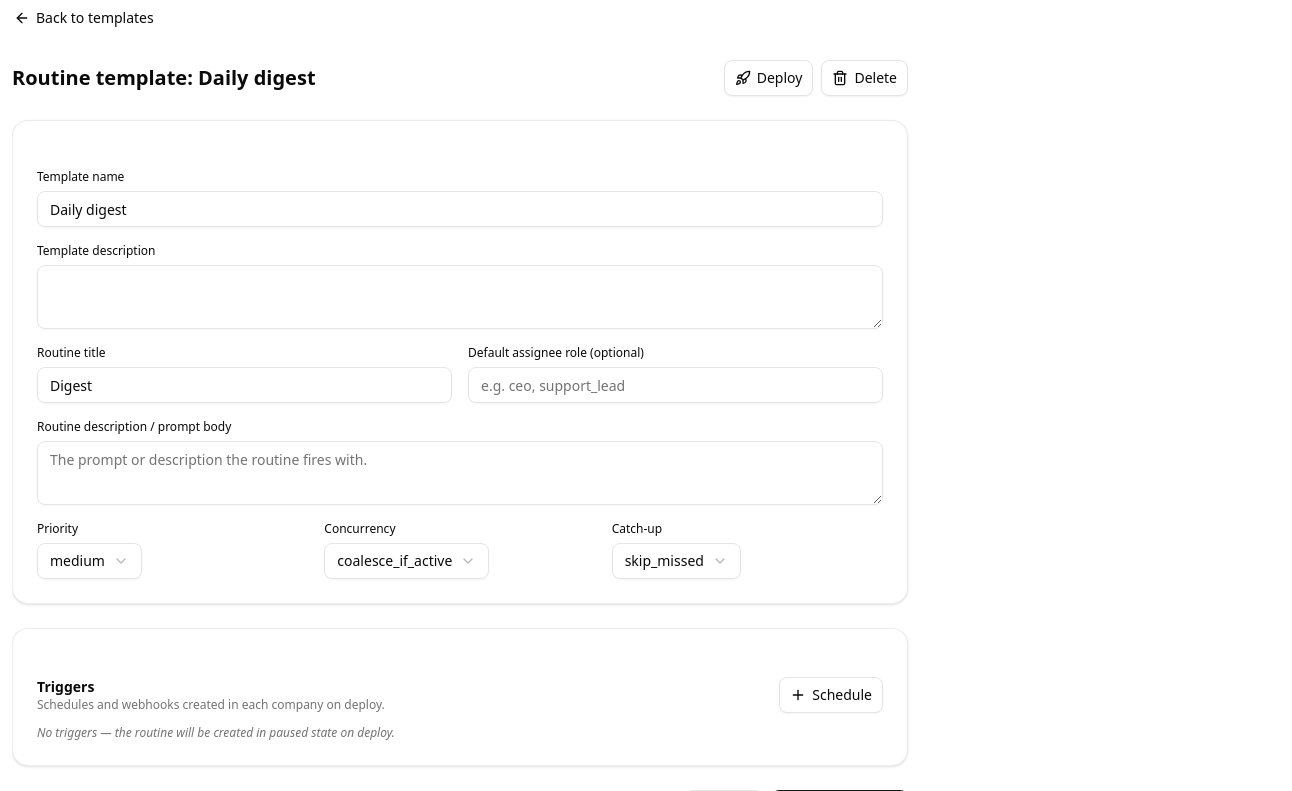
Test: InstanceTemplateEditor, deleting a template › says why the routine template could not be deleted
The width and height of the screenshot is (1292, 791).
Click the button "Delete". click: (865, 78)
box: left=821, top=60, right=908, bottom=96
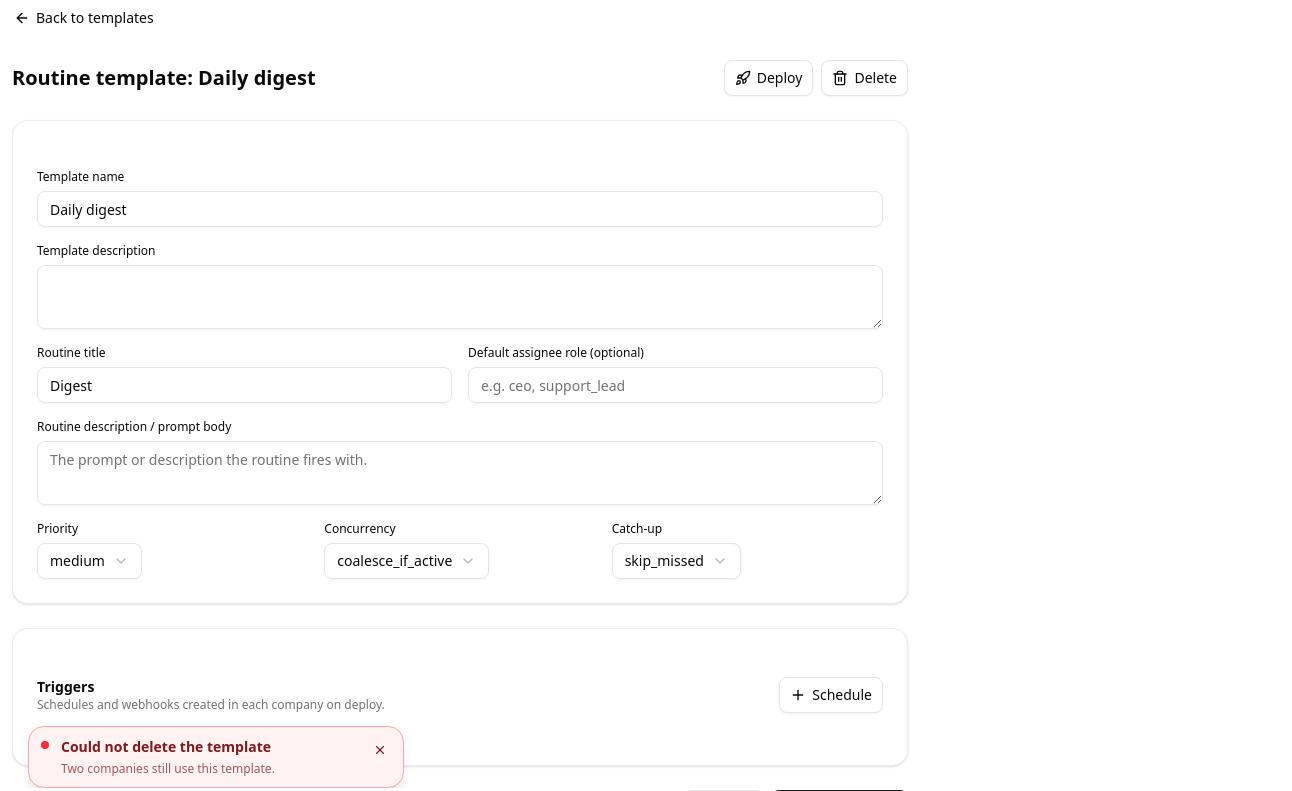
Now the element that starts with "Could not delete the template" is shown, box left=61, top=737, right=271, bottom=756
Now the element that starts with "Could not delete the template" shows "Two companies still use this template.", box left=61, top=760, right=275, bottom=777
